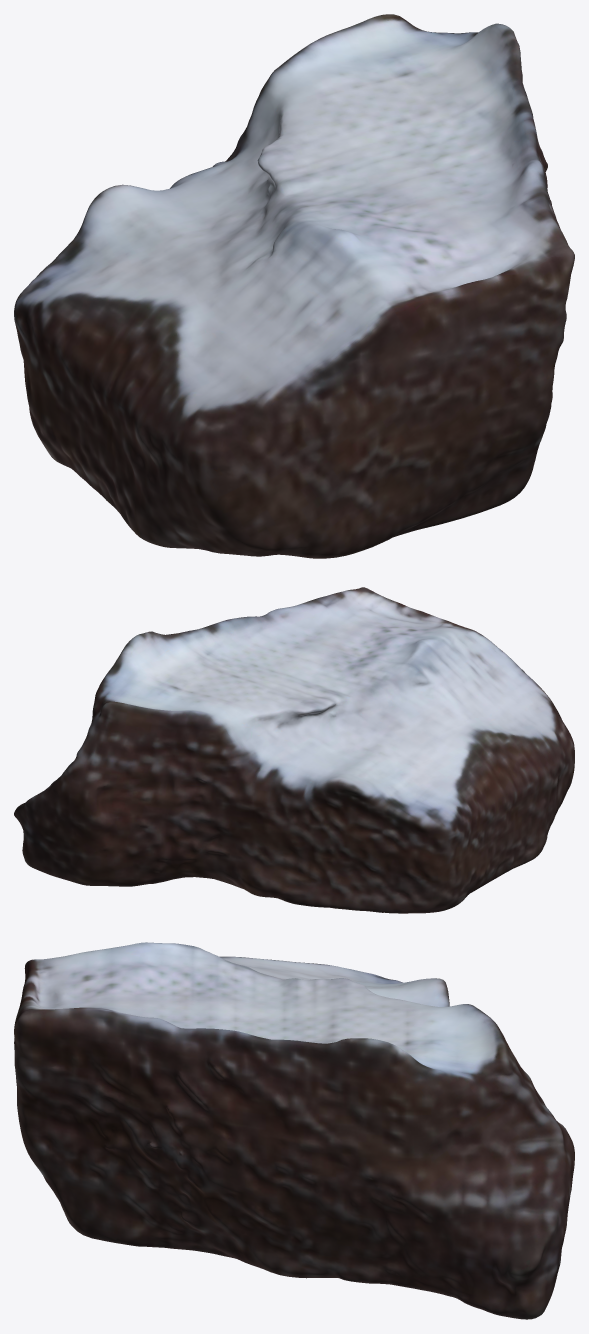
Rendered from brown_rock_1.glb.
3 views of the same model, one above another, from view 1: azimuth 30°, elevation 25°; view 2: azimuth 150°, elevation 25°; view 3: azimuth 270°, elevation 25° (orthographic). The views are drawn at different scales.
Visible parts, largest first — view 1: world; view 2: world; view 3: world.
Boxes of the visible parts, box(x1,y1,x2,y2) form: world: box(14, 14, 574, 558); world: box(14, 587, 574, 913); world: box(14, 942, 574, 1319).
Size of the model in its own units: 0.4732 by 0.2378 by 0.4557.
1 material, 1 textured.
